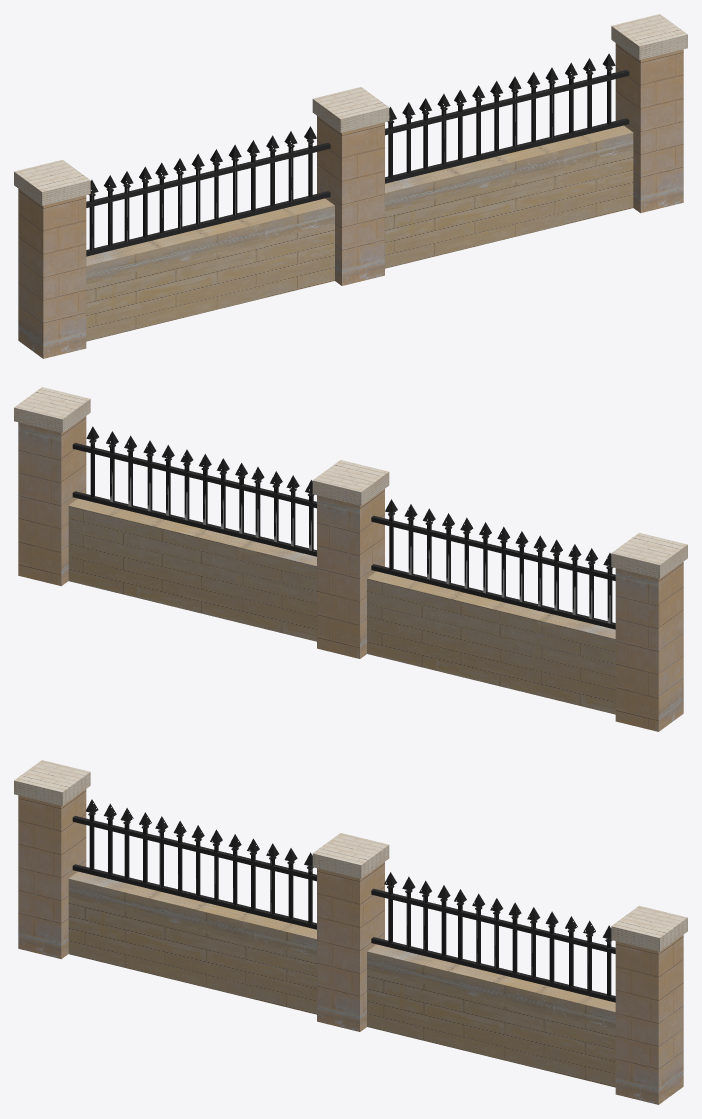
File: reja.obj
3 renders of one model, top to bottom at view 1: azimuth 30°, elevation 25°; view 2: azimuth 150°, elevation 25°; view 3: azimuth 330°, elevation 25°, orthographic.
Parts seen in each view (by area): view 1: wall, wall.001_wall.004; view 2: wall, wall.001_wall.004; view 3: wall, wall.001_wall.004.
Boxes of the visible parts, x1,y1,x2,y2 form: wall: (14, 87, 389, 358); wall.001_wall.004: (312, 14, 687, 268); wall: (312, 460, 687, 731); wall.001_wall.004: (14, 387, 387, 641); wall: (14, 760, 389, 1031); wall.001_wall.004: (313, 833, 687, 1104).
Size of the model in its own units: 21.63 by 5.4 by 1.63.
5 materials, 5 textured.
